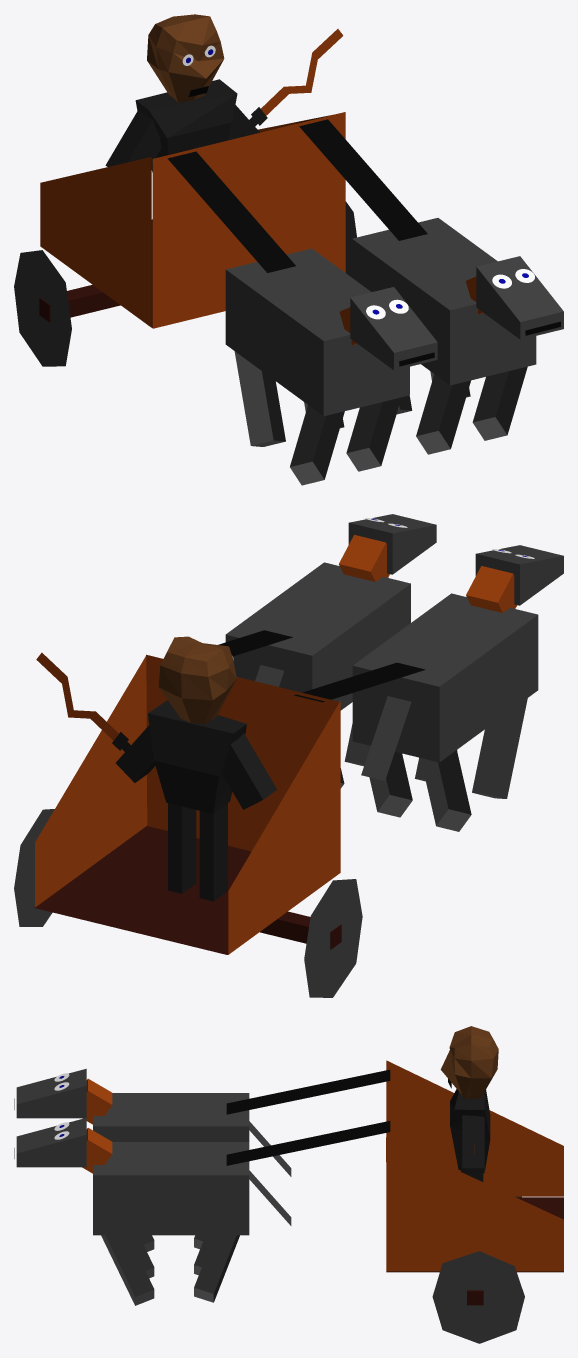
The model's file is heavychariot3.obj.
3 views of the same model, one above another, from view 1: azimuth 30°, elevation 25°; view 2: azimuth 150°, elevation 25°; view 3: azimuth 270°, elevation 25° (orthographic). The views are drawn at different scales.
Visible parts, largest first — view 1: Plane.005_Plane.006, Cube.015_Cube.017, Cube.006_Cube.009, Plane.003, Plane.007_Plane.008, Cube, Cube.001, Cube.021_Cube.023, Cube.014_Cube.016, Plane.012_Plane.013, Plane.013_Plane.014, Cube.016_Cube.018 (+9 smaller); view 2: Cube.015_Cube.017, Cube.006_Cube.009, Plane.003, Plane.002, Plane.004, Plane.005_Plane.006, Cube.001, Cube, Plane.007_Plane.008, Cube.019_Cube.021, Cube.021_Cube.023, Cube.014_Cube.016 (+14 smaller); view 3: Plane.004, Cube.006_Cube.009, Plane.003, Cube.015_Cube.017, Plane.006_Plane.007, Cube, Cube.021_Cube.023, Cube.014_Cube.016, Plane.012_Plane.013, Plane.013_Plane.014, Cube.011_Cube.013, Cube.010_Cube.012 (+7 smaller).
Boxes of the visible parts, x1,y1,x2,y2 form: Plane.005_Plane.006: [152, 112, 345, 328]; Cube.015_Cube.017: [225, 248, 409, 416]; Cube.006_Cube.009: [352, 218, 536, 385]; Plane.003: [40, 157, 151, 327]; Plane.007_Plane.008: [14, 250, 71, 366]; Cube: [147, 14, 224, 102]; Cube.001: [135, 79, 237, 172]; Cube.021_Cube.023: [350, 287, 437, 370]; Cube.014_Cube.016: [476, 256, 563, 339]; Plane.012_Plane.013: [165, 148, 295, 272]; Plane.013_Plane.014: [297, 116, 427, 240]; Cube.016_Cube.018: [234, 351, 285, 446]; Cube.015_Cube.017: [352, 593, 538, 762]; Cube.006_Cube.009: [225, 562, 410, 710]; Plane.003: [228, 701, 340, 954]; Plane.002: [33, 826, 251, 954]; Plane.004: [35, 656, 147, 907]; Plane.005_Plane.006: [146, 654, 339, 851]; Cube.001: [148, 700, 246, 813]; Cube: [158, 636, 236, 724]; Plane.007_Plane.008: [304, 879, 362, 997]; Cube.019_Cube.021: [472, 698, 527, 798]; Cube.021_Cube.023: [475, 545, 563, 605]; Cube.014_Cube.016: [348, 514, 436, 574]; Plane.004: [386, 1137, 563, 1271]; Cube.006_Cube.009: [93, 1142, 249, 1235]; Plane.003: [386, 1060, 563, 1196]; Cube.015_Cube.017: [93, 1093, 249, 1141]; Plane.006_Plane.007: [432, 1251, 524, 1343]; Cube: [440, 1026, 498, 1098]; Cube.021_Cube.023: [16, 1068, 86, 1118]; Cube.014_Cube.016: [16, 1118, 86, 1167]; Plane.012_Plane.013: [226, 1069, 390, 1114]; Plane.013_Plane.014: [226, 1121, 390, 1165]; Cube.011_Cube.013: [101, 1235, 154, 1305]; Cube.010_Cube.012: [194, 1235, 239, 1302].
Size of the model in its own units: 7.44 by 7.5 by 14.9.
